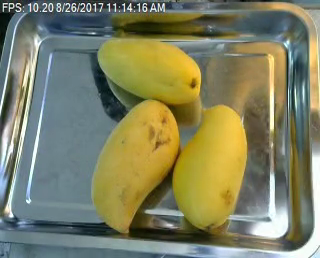Mango: (85, 97, 182, 232), (165, 102, 251, 237), (89, 34, 207, 108)
